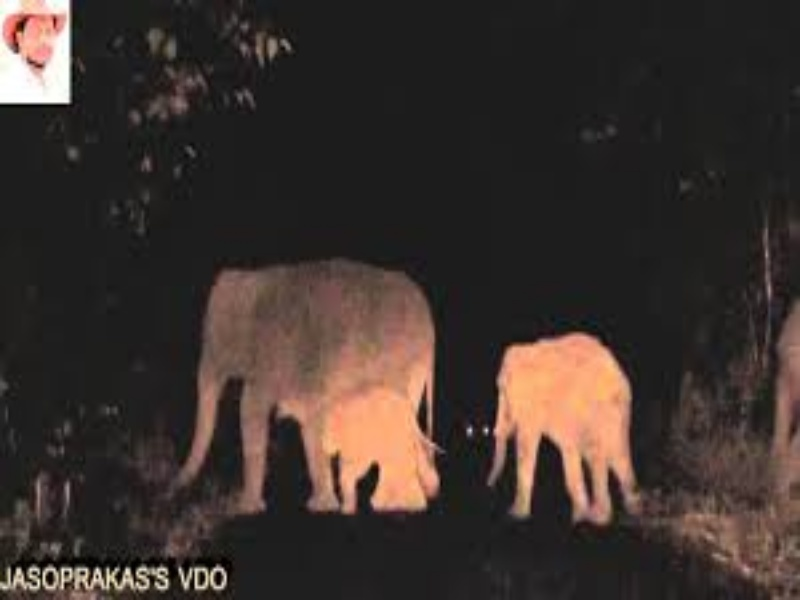elephant: (158, 213, 650, 538)
